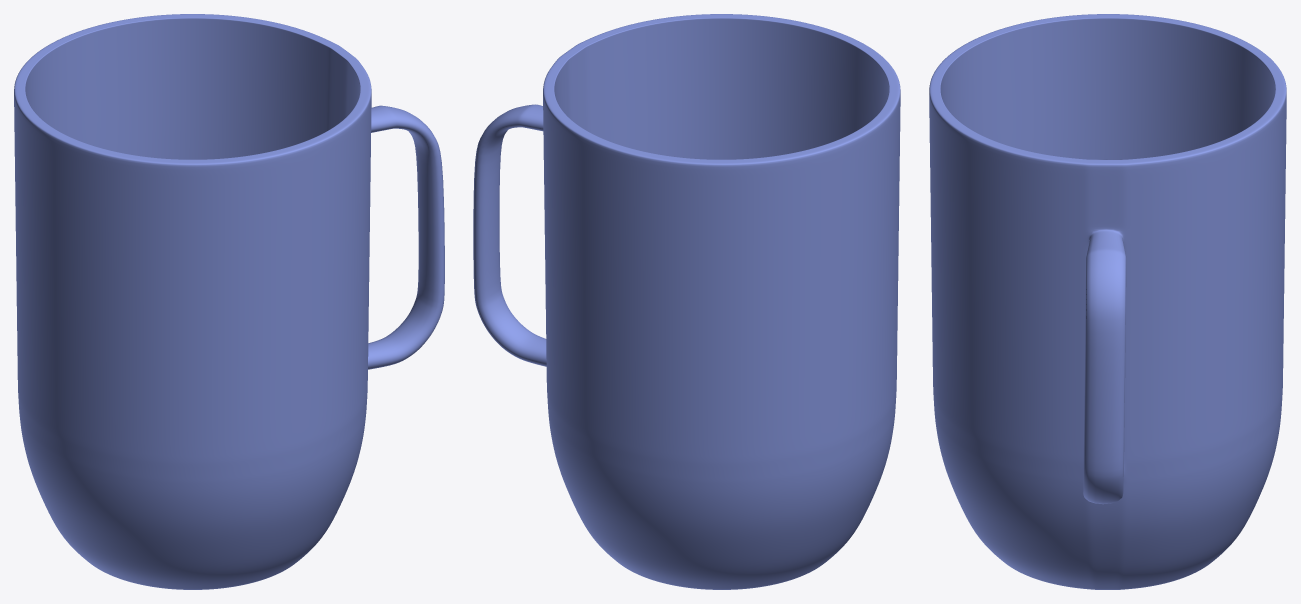
The picture shows the model from 3 angles, left to right: view 1: azimuth 30°, elevation 25°; view 2: azimuth 150°, elevation 25°; view 3: azimuth 270°, elevation 25°; orthographic projection.
Parts seen in each view (by area): view 1: Cylinder.001; view 2: Cylinder.001; view 3: Cylinder.001.
Boxes of the visible parts, x1,y1,x2,y2 form: Cylinder.001: (14,14,444,589); Cylinder.001: (473,14,900,589); Cylinder.001: (929,14,1286,589).
Bounding box in the file's own units: 9.57 × 10.38 × 7.41.
